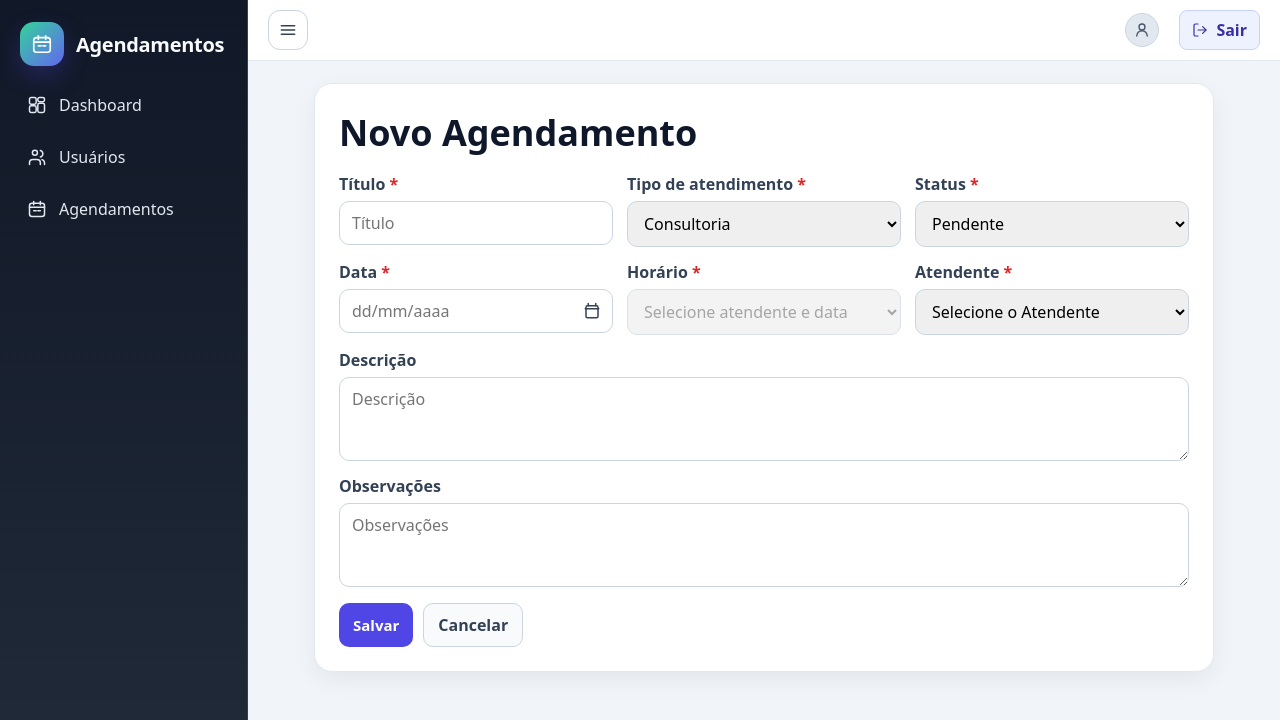
AgendamentoForm - RQF2.1 › valida data não pode ser anterior a hoje
Type "Meu Agendamento" into the field with placeholder "Título".
click(476, 223); type("Meu Agendamento")  # box [339, 201, 613, 245]
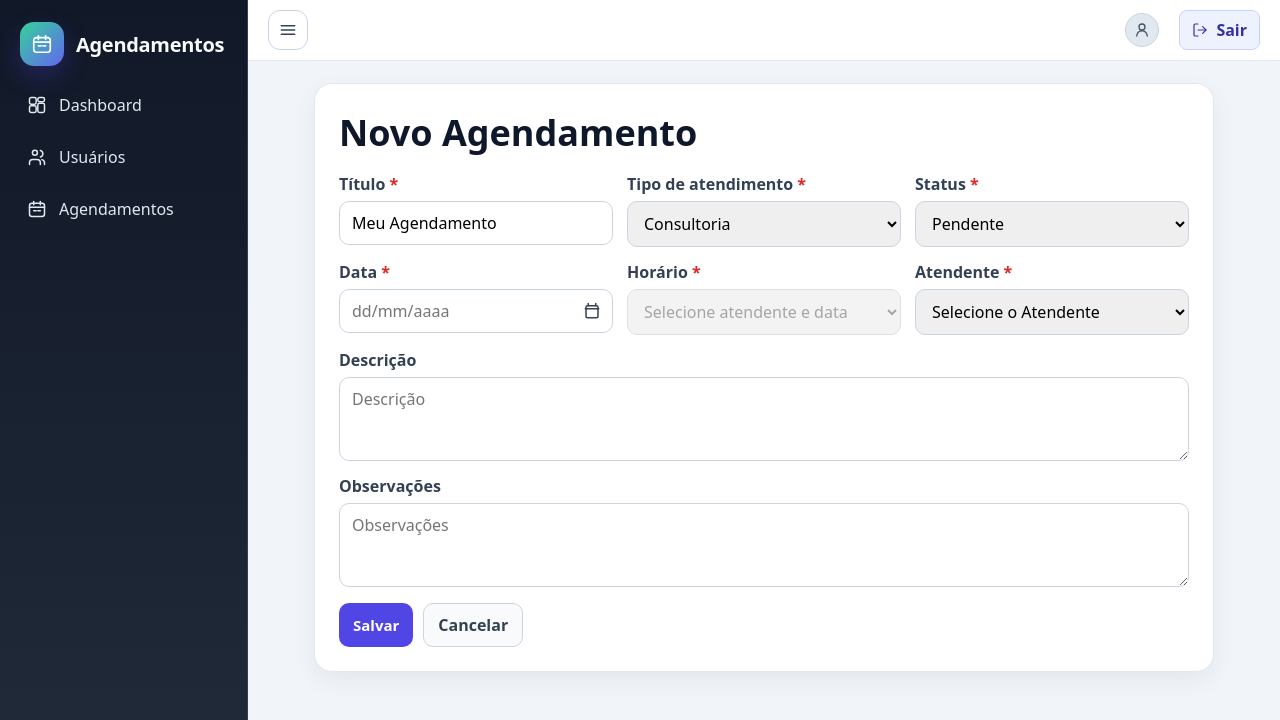
Type "2026-04-22" into the date field labelled "Data *".
click(476, 298); type("2026-04-22")  # box [339, 261, 613, 335]
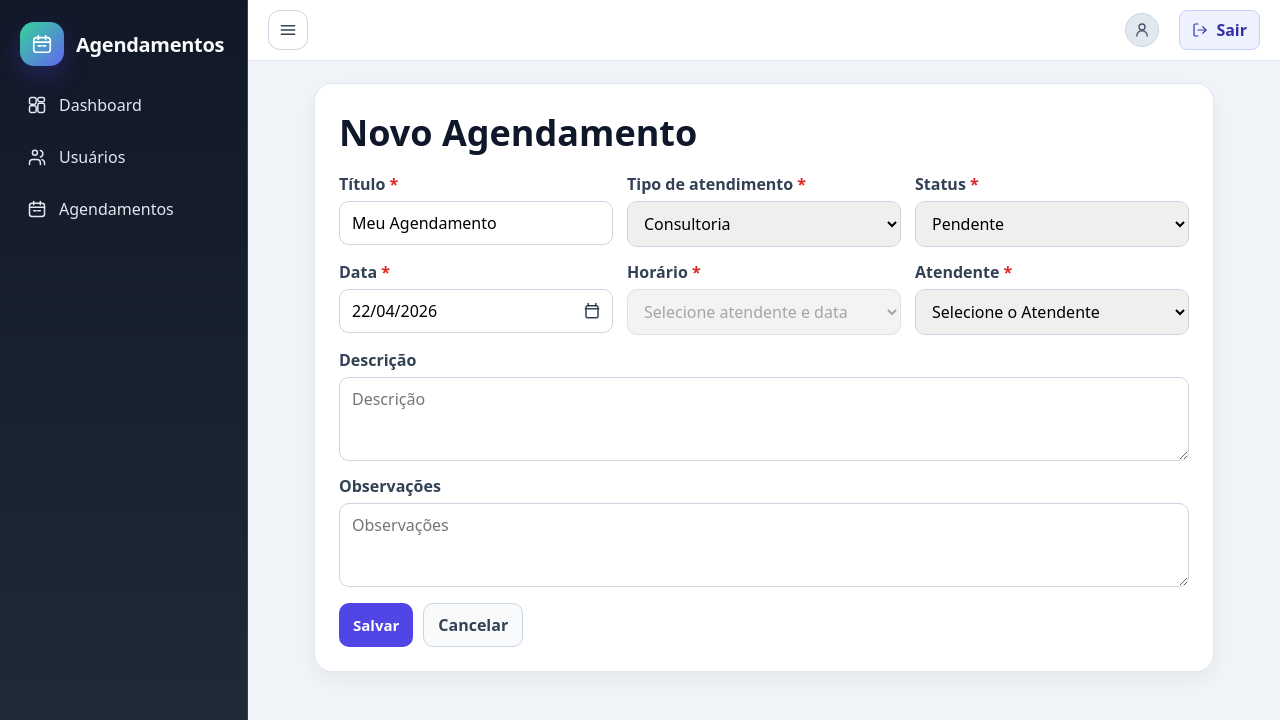
Click the button "Salvar".
click(376, 625)  # box [339, 603, 413, 647]
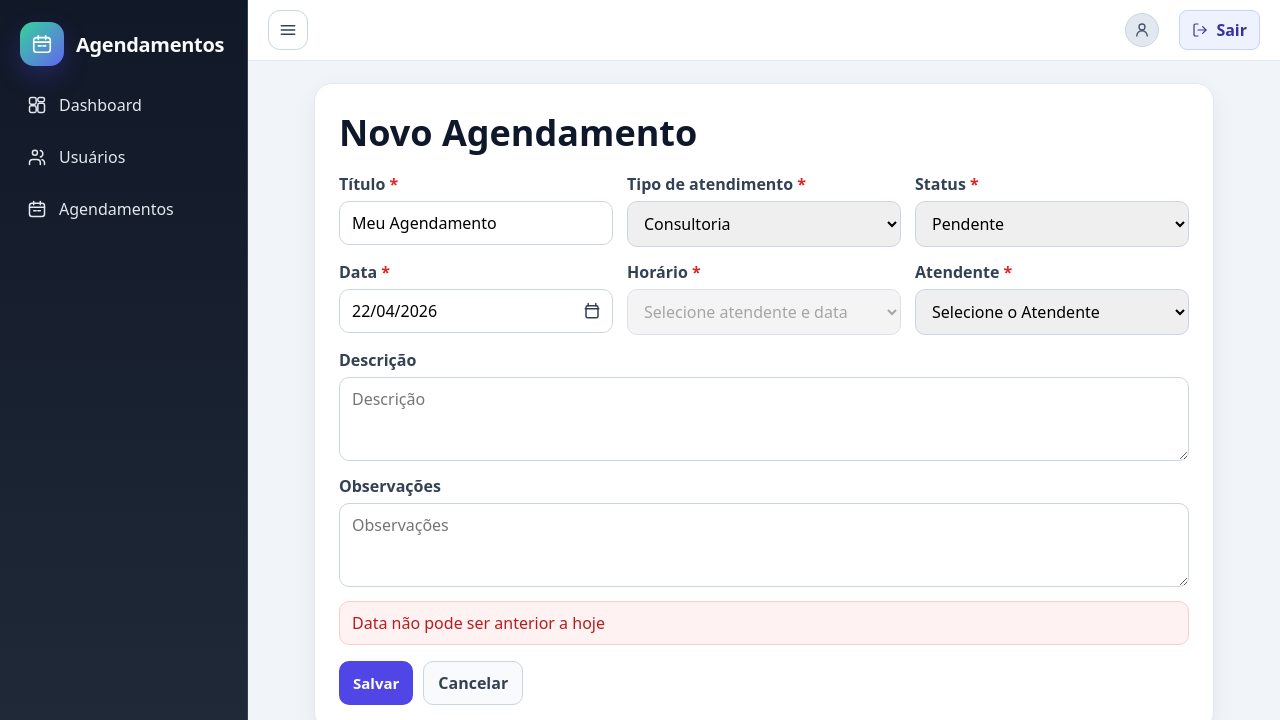
Expected: the text with test id "form-error" shows "Data não pode ser anterior", [352, 612, 605, 634]
